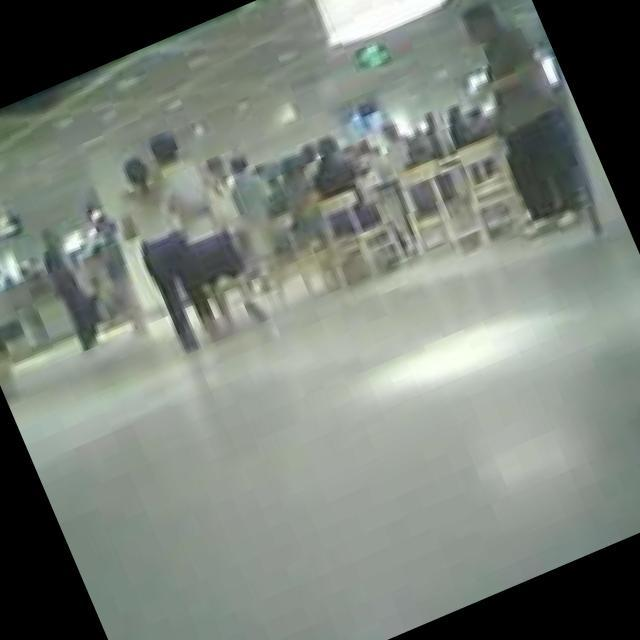person: (432, 0, 606, 244), (132, 121, 270, 342), (98, 146, 233, 357), (73, 197, 158, 336), (214, 148, 300, 274), (30, 224, 112, 356), (298, 132, 377, 232), (270, 150, 332, 239), (0, 268, 36, 353)
